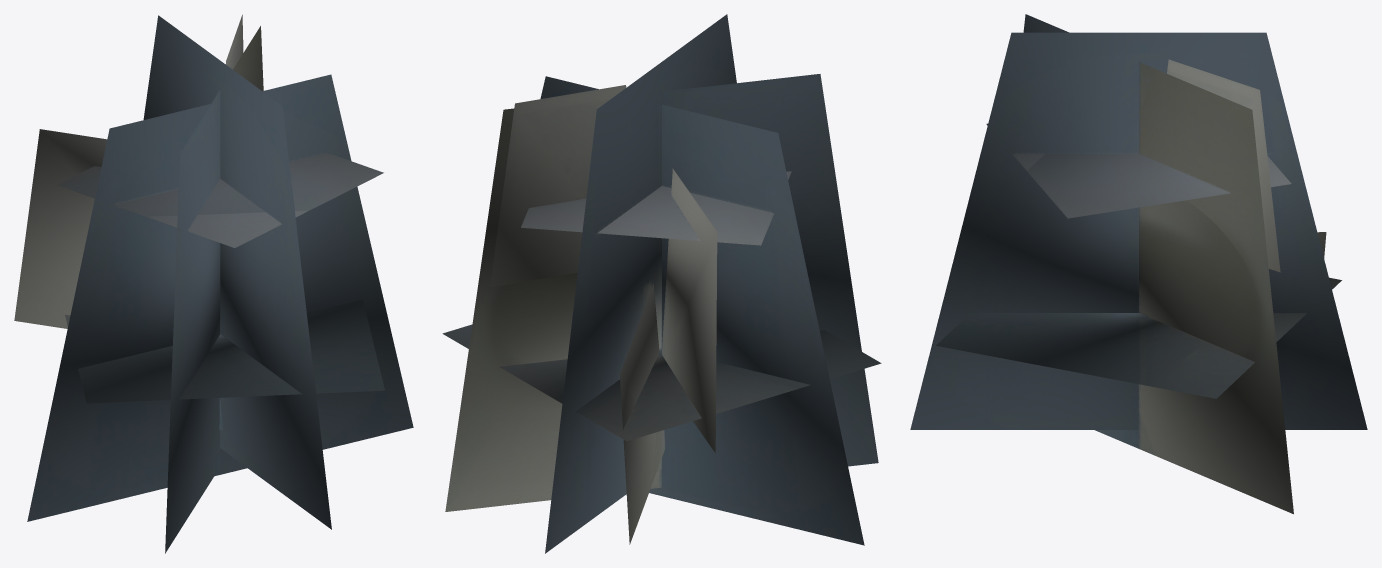
The model's file is birch-canopy-unit-tripo-original.glb.
The picture shows the model from 3 angles, left to right: view 1: azimuth 30°, elevation 25°; view 2: azimuth 150°, elevation 25°; view 3: azimuth 270°, elevation 25°; orthographic projection. The views are drawn at different scales.
Parts seen in each view (by area): view 1: Authored_surface; view 2: Authored_surface; view 3: Authored_surface.
Boxes of the visible parts, x1,y1,x2,y2 form: Authored_surface: (14, 14, 413, 553); Authored_surface: (442, 14, 881, 553); Authored_surface: (910, 14, 1367, 514).
Bounding box in the file's own units: 0.9763 × 1 × 0.9763.
1 material, 1 textured.
